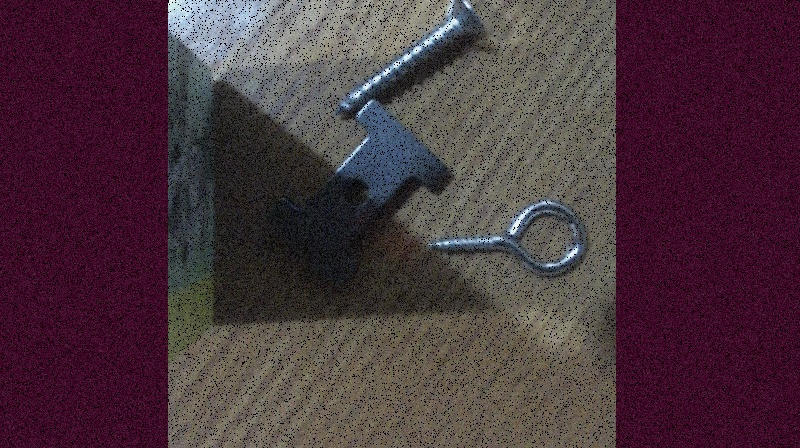O001: (423, 194, 591, 283)
O002: (259, 97, 450, 291)
S001: (329, 0, 492, 120)
